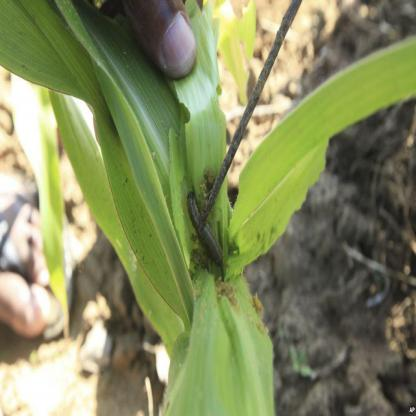armyworm: (184, 181, 230, 283)
